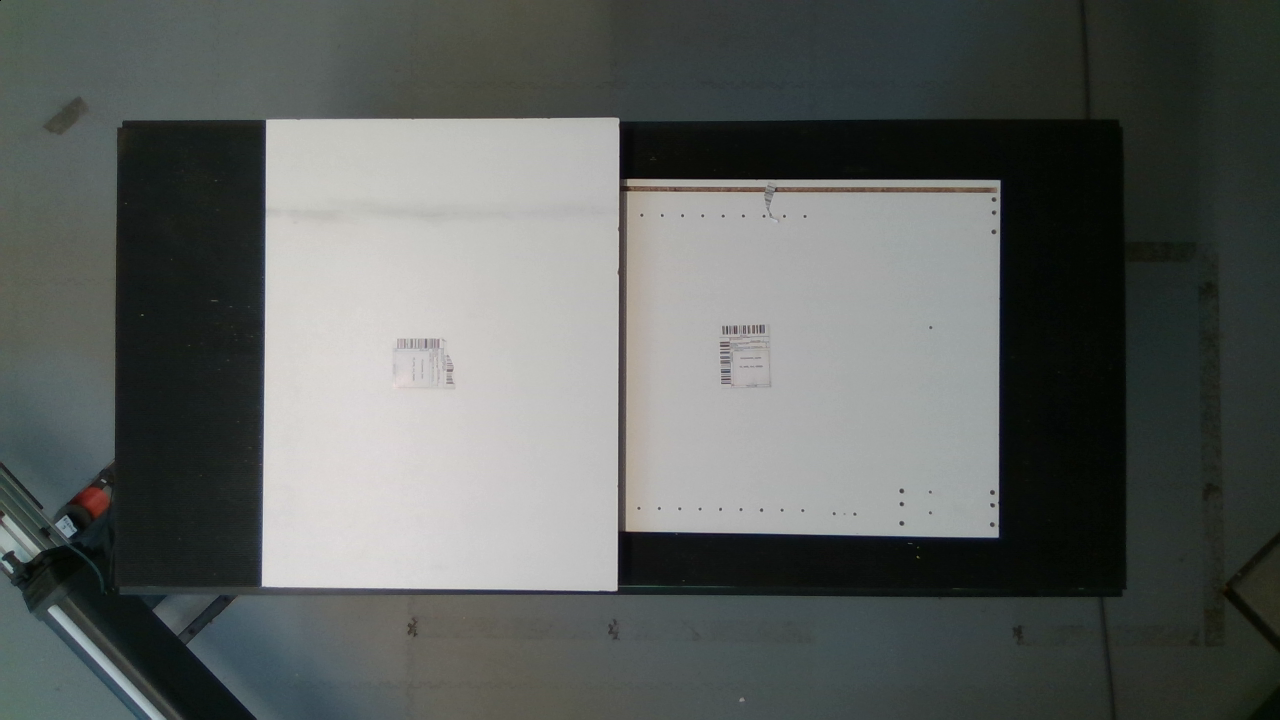barcode: (712, 313, 790, 399), (387, 329, 463, 400)
part2: (251, 102, 630, 594), (601, 166, 1034, 555)
